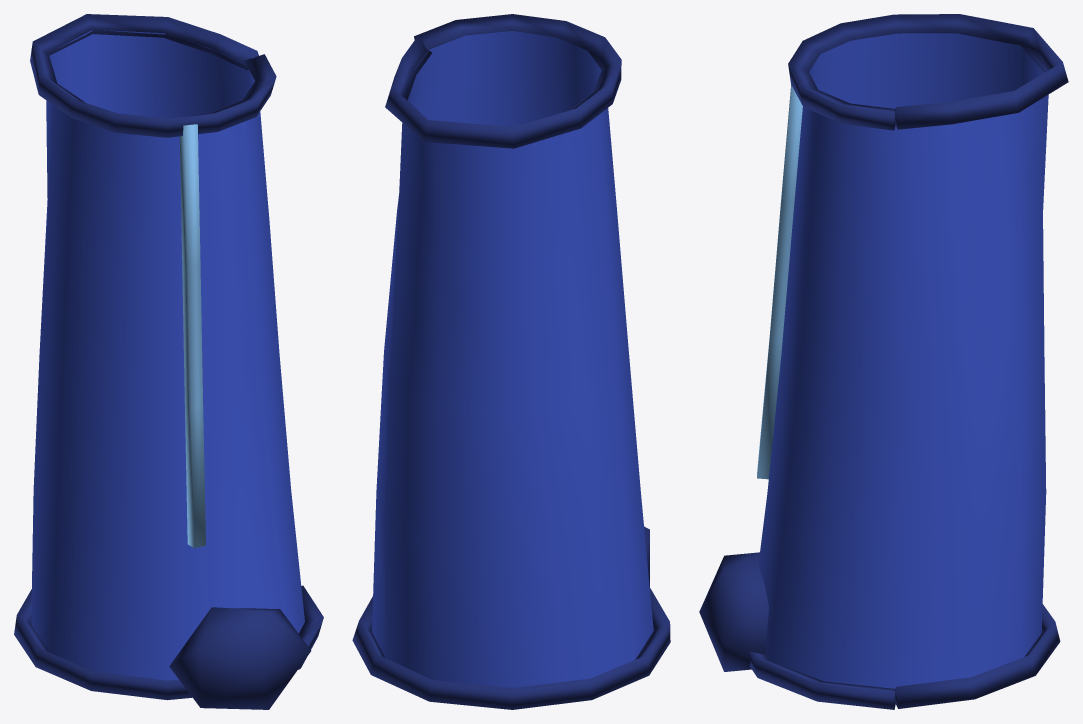
Rendered from shroomite_armor_greave.L.glb.
3 renders of one model, left to right at view 1: azimuth 30°, elevation 25°; view 2: azimuth 150°, elevation 25°; view 3: azimuth 270°, elevation 25°, orthographic. The views are drawn at different scales.
Visible parts, largest first — view 1: shroomite_armor_greave.L; view 2: shroomite_armor_greave.L; view 3: shroomite_armor_greave.L.
Part boxes in pixels (x1,y1,x2,y2): shroomite_armor_greave.L: [14, 14, 323, 709]; shroomite_armor_greave.L: [352, 14, 670, 709]; shroomite_armor_greave.L: [699, 14, 1068, 709].
Size of the model in its own units: 0.1942 by 0.4045 by 0.2254.
